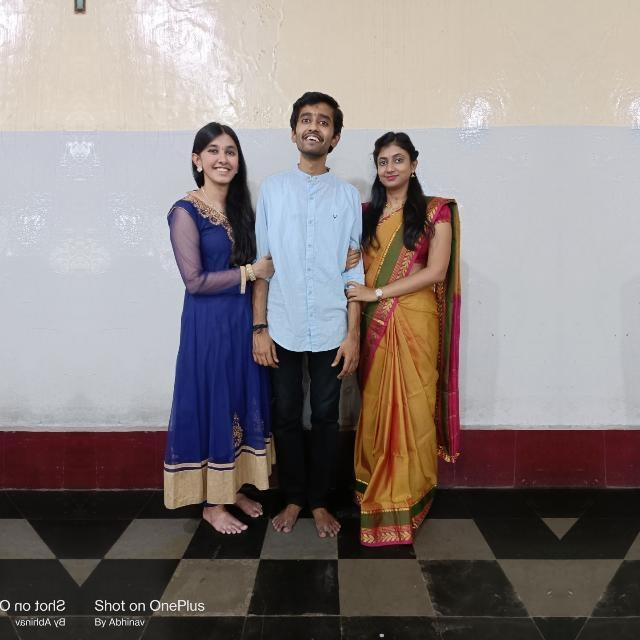person: (347, 131, 457, 551), (168, 119, 266, 549), (270, 91, 358, 545)
